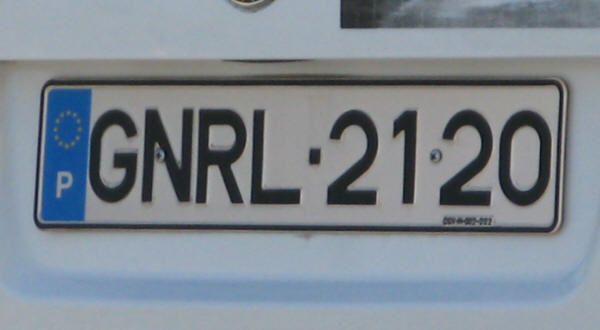license_plate: (35, 81, 568, 234)
